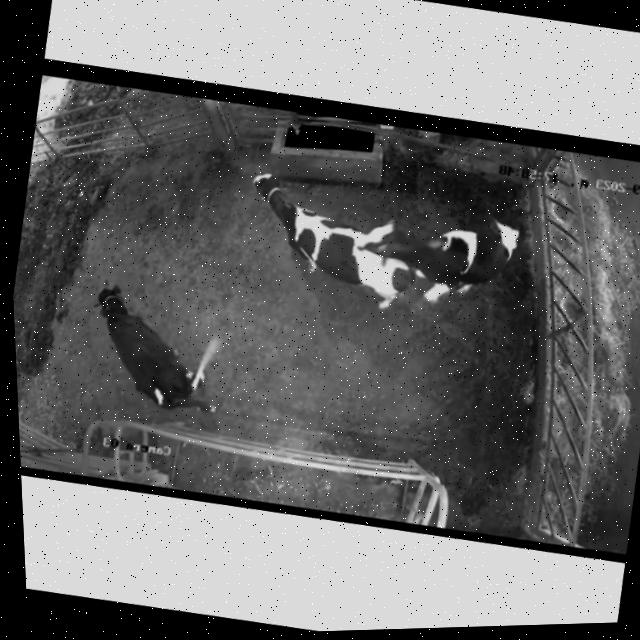propping: (334, 208, 440, 295)
